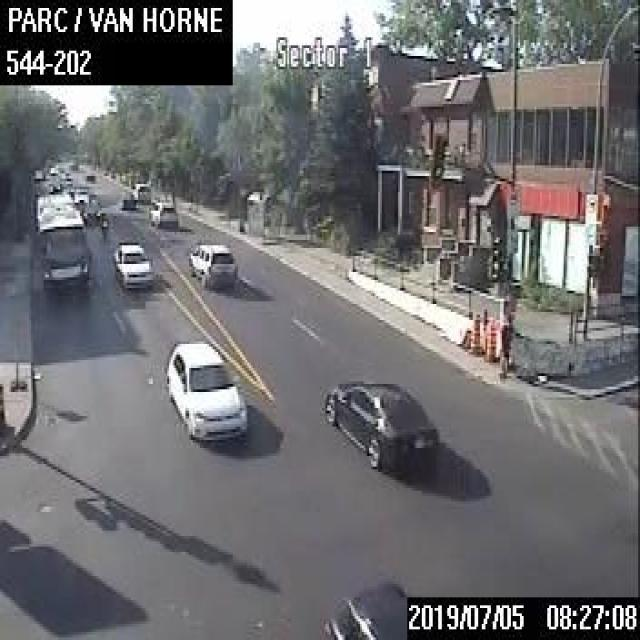bus: (33, 190, 90, 291)
construction: (470, 310, 482, 350), (484, 315, 494, 360)
cyclist: (98, 208, 108, 239)
pedestrian: (496, 320, 509, 376)
vehicle: (323, 376, 438, 472), (164, 336, 246, 442), (318, 576, 406, 637), (187, 239, 234, 288), (110, 237, 154, 288), (148, 199, 177, 226), (81, 198, 100, 222), (130, 180, 150, 200), (117, 189, 135, 206), (71, 185, 88, 202), (84, 171, 94, 180)
